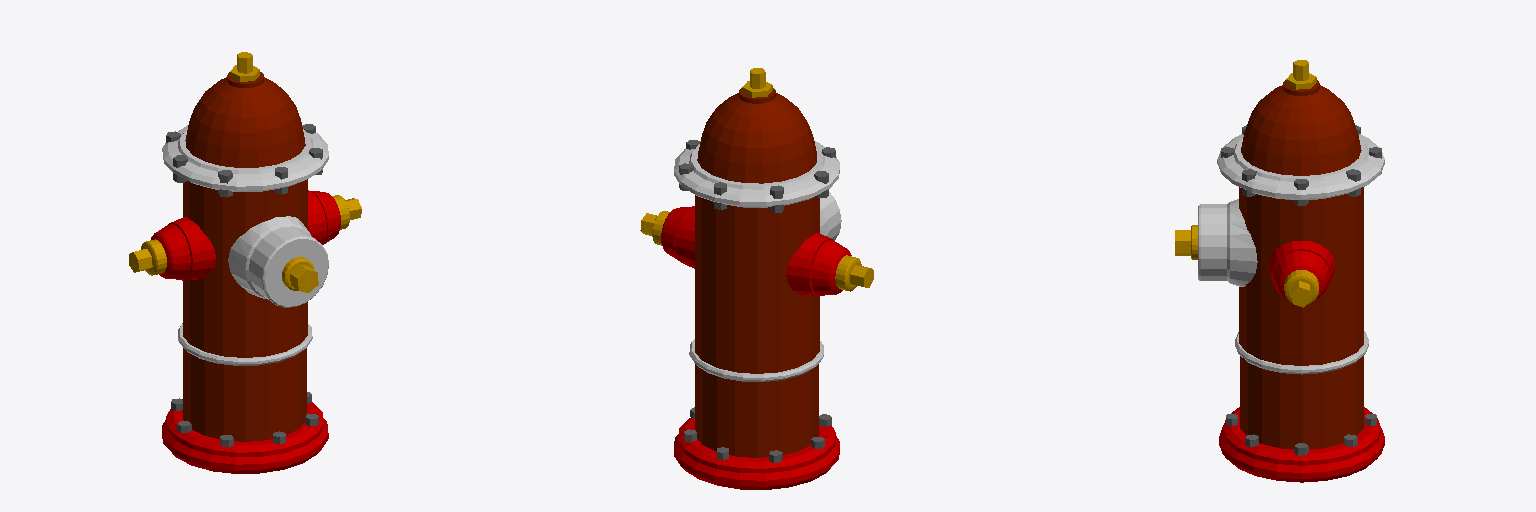
File: Hydrant2.obj
3 renders of one model, left to right at view 1: azimuth 30°, elevation 25°; view 2: azimuth 150°, elevation 25°; view 3: azimuth 270°, elevation 25°, orthographic.
Size of the model in its own units: 8.88 by 14.69 by 7.26.